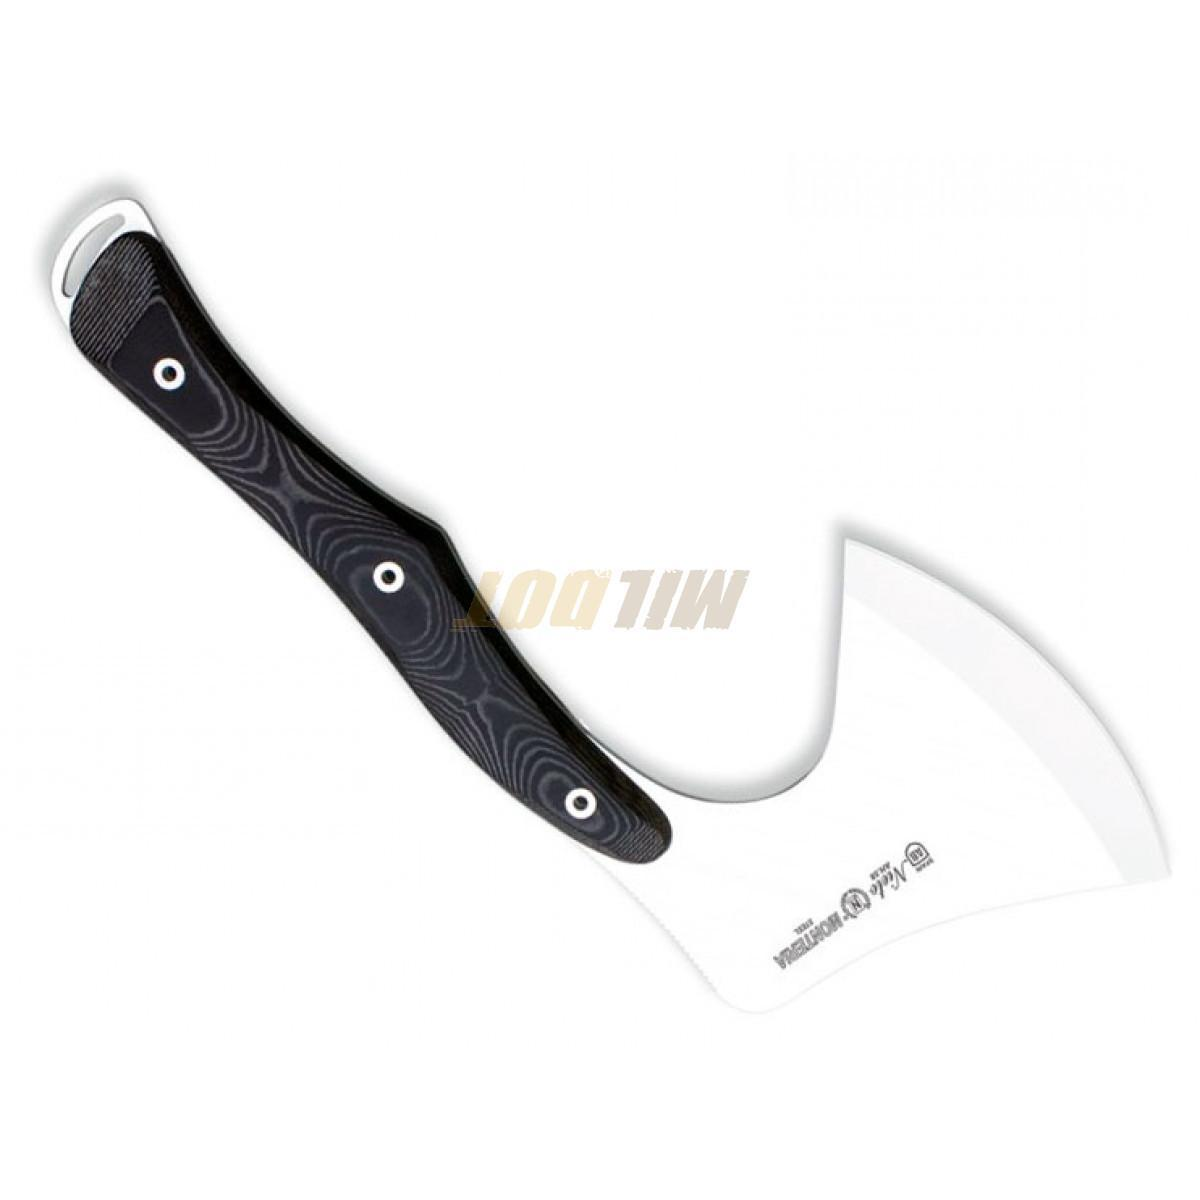machado: (53, 201, 1165, 1011)
